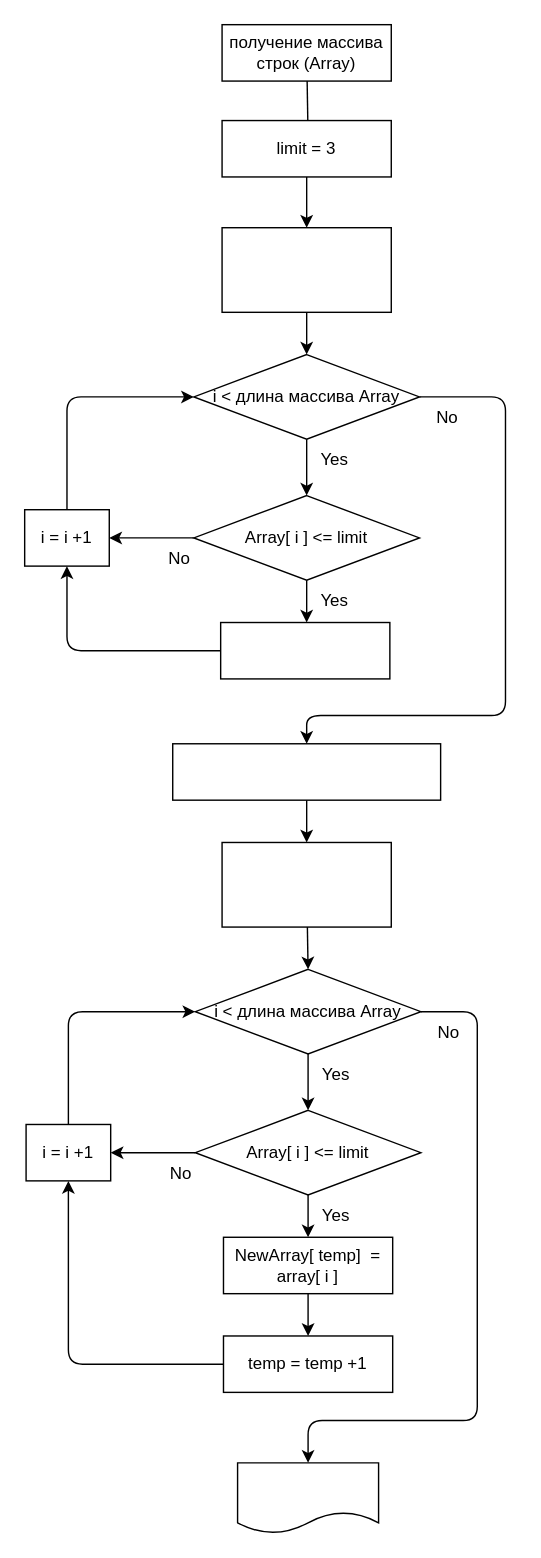
Image size: 541x1558. Some labels were removed from this diagram. Here are the shapes that lost their labels. From the top down, the centre of each, then its label:
[306,269]: счётчики: N= 0 i = 0
[304,650]: N = N +1
[306,771]: инициализация нового массива(NewArray), размером N
[306,884]: temp = 0 i = 0
[307,1497]: NewArray
